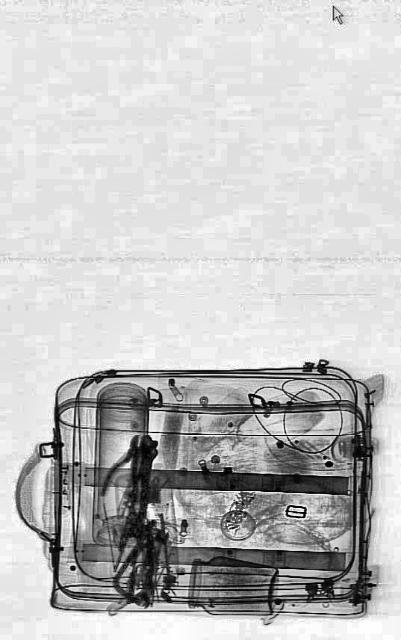Pliers: (95, 422, 159, 526)
